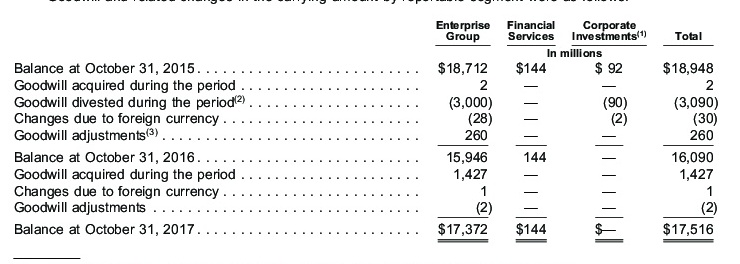table: (0, 0, 740, 264)
